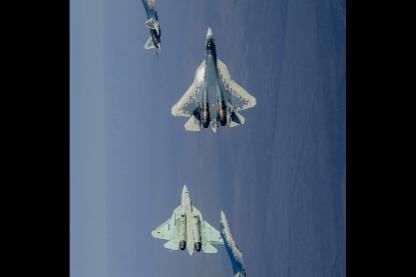SR71: (171, 27, 256, 134), (151, 185, 224, 256), (218, 210, 249, 276), (136, 0, 162, 61)
